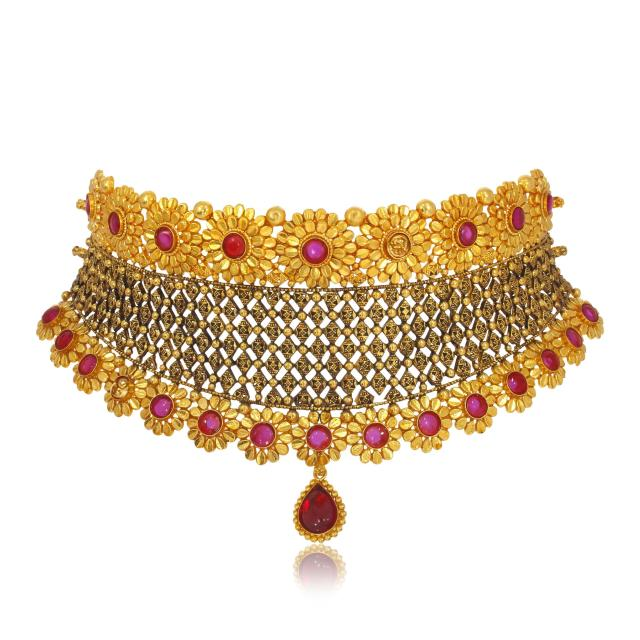missing gem: (388, 233, 410, 258), (111, 376, 129, 398)
